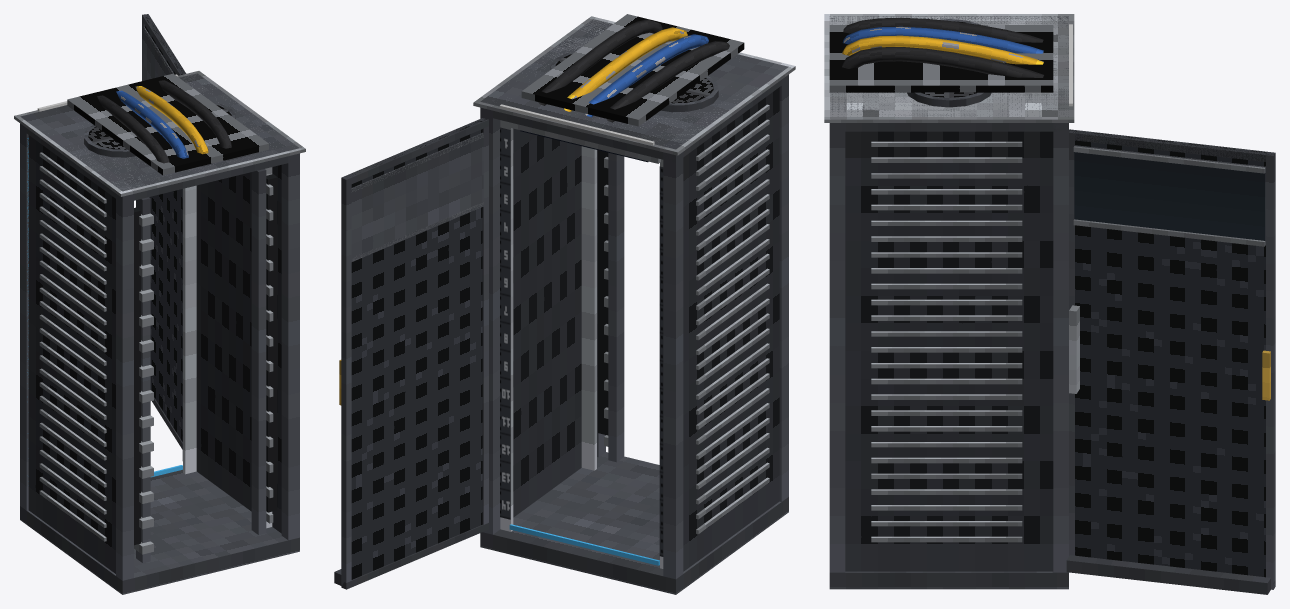
File: server_rack.obj
3 renders of one model, left to right at view 1: azimuth 30°, elevation 25°; view 2: azimuth 150°, elevation 25°; view 3: azimuth 270°, elevation 25°, orthographic. The views are drawn at different scales.
Size of the model in its own units: 1.19 by 2.14 by 1.73.
